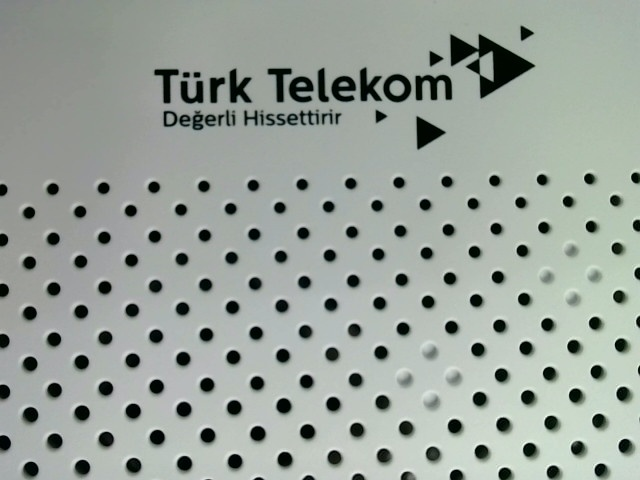AQ_TURKTelekom: (152, 19, 540, 146)
